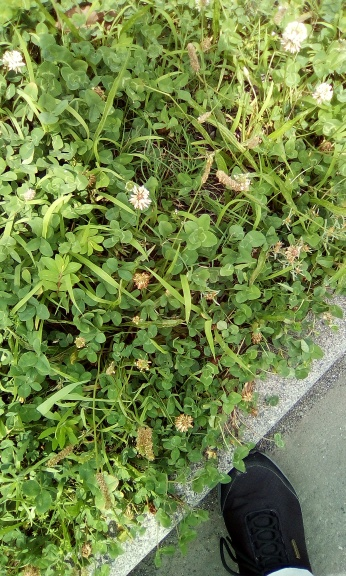4leaf: (183, 213, 217, 251)
